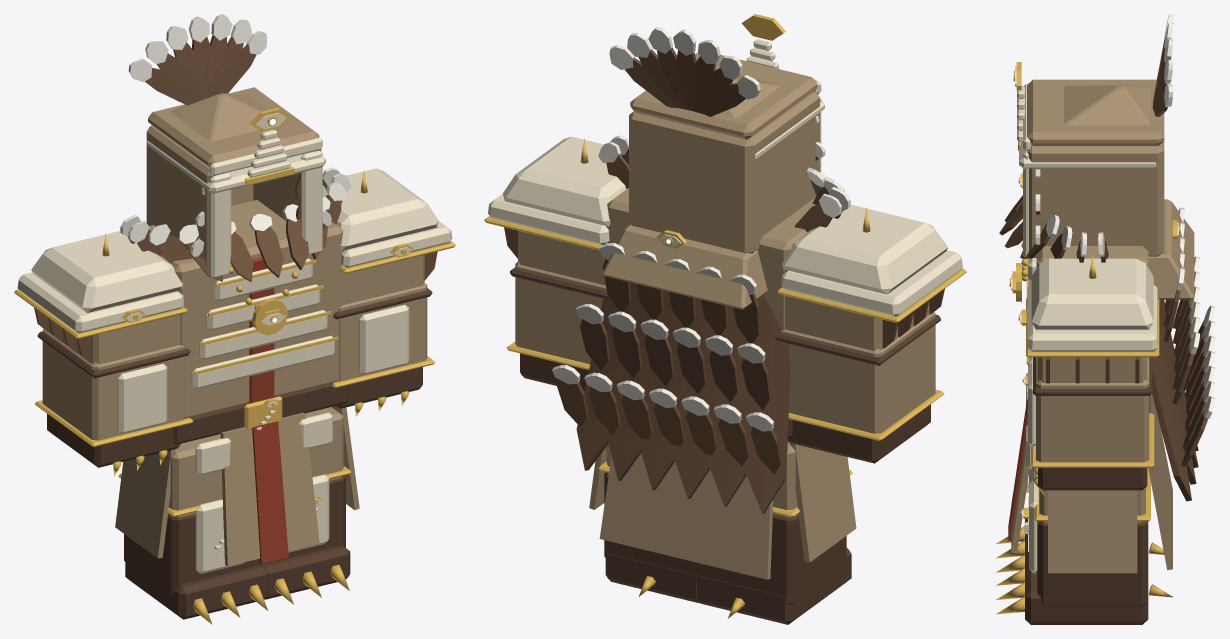
The model's file is Ascendant.fbx.
3 renders of one model, left to right at view 1: azimuth 30°, elevation 25°; view 2: azimuth 150°, elevation 25°; view 3: azimuth 270°, elevation 25°, orthographic. The views are drawn at different scales.
Visible parts, largest first — view 1: Armor_Ascendant_Helm_Wool_Common, Armor_Ascendant_Belt_WoolSway_Common, Armor_Ascendant_Chest_Wool_Common, Armor_Ascendant_PauldronR_Bone_Common, Armor_Ascendant_Chest_Bone_Common, Armor_Ascendant_Helm_Bone_Common, Armor_Ascendant_PauldronL_Bone_Common, Armor_Ascendant_BracerR_Wool_Common, Armor_Ascendant_Helm_FeatherSway_Legendary, Armor_Ascendant_Belt_SashSway_Common, Armor_Ascendant_GreaveR_Leather_Common, Armor_Ascendant_BootR_Leather_Common (+30 smaller); view 2: Armor_Ascendant_Helm_Wool_Common, Armor_Ascendant_Belt_WoolSway_Common, Armor_Ascendant_Chest_FeatherSway_Common, Armor_Ascendant_PauldronR_Bone_Common, Armor_Ascendant_BracerR_Wool_Common, Armor_Ascendant_PauldronL_Bone_Common, Armor_Ascendant_Chest_FeatherSway_Epic, Armor_Ascendant_Chest_FeatherSway_Rare, Armor_Ascendant_BracerL_Wool_Common, Armor_Ascendant_Helm_FeatherSway_Legendary, Armor_Ascendant_GreaveR_Leather_Common, Armor_Ascendant_BootR_Leather_Common (+23 smaller); view 3: Armor_Ascendant_Helm_Wool_Common, Armor_Ascendant_PauldronL_Bone_Common, Armor_Ascendant_Belt_WoolSway_Common, Armor_Ascendant_BracerL_Wool_Common, Armor_Ascendant_GreaveL_Leather_Common, Armor_Ascendant_Chest_FeatherSway_Common, Armor_Ascendant_BootL_Leather_Common, Armor_Ascendant_PauldronL_Wool_Common, Armor_Ascendant_GloveL_Leather_Common, Armor_Ascendant_Chest_FeatherSway_Epic, Armor_Ascendant_Helm_Bone_Common, Armor_Ascendant_Chest_FeatherSway_Rare (+22 smaller).
Part boxes in pixels (bbox=[...]): Armor_Ascendant_Helm_Wool_Common: bbox=[146, 87, 321, 268]; Armor_Ascendant_Belt_WoolSway_Common: bbox=[115, 406, 359, 566]; Armor_Ascendant_Chest_Wool_Common: bbox=[149, 200, 343, 417]; Armor_Ascendant_PauldronR_Bone_Common: bbox=[17, 231, 184, 333]; Armor_Ascendant_Chest_Bone_Common: bbox=[191, 258, 334, 389]; Armor_Ascendant_Helm_Bone_Common: bbox=[146, 137, 325, 278]; Armor_Ascendant_PauldronL_Bone_Common: bbox=[336, 168, 452, 267]; Armor_Ascendant_BracerR_Wool_Common: bbox=[42, 329, 184, 440]; Armor_Ascendant_Helm_FeatherSway_Legendary: bbox=[145, 35, 256, 105]; Armor_Ascendant_Belt_SashSway_Common: bbox=[252, 421, 288, 563]; Armor_Ascendant_GreaveR_Leather_Common: bbox=[124, 513, 260, 595]; Armor_Ascendant_BootR_Leather_Common: bbox=[125, 562, 266, 619]; Armor_Ascendant_Helm_Wool_Common: bbox=[603, 52, 819, 309]; Armor_Ascendant_Belt_WoolSway_Common: bbox=[589, 443, 856, 579]; Armor_Ascendant_Chest_FeatherSway_Common: bbox=[576, 282, 789, 513]; Armor_Ascendant_PauldronR_Bone_Common: bbox=[781, 204, 962, 316]; Armor_Ascendant_BracerR_Wool_Common: bbox=[781, 312, 935, 433]; Armor_Ascendant_PauldronL_Bone_Common: bbox=[488, 136, 626, 245]; Armor_Ascendant_Chest_FeatherSway_Epic: bbox=[557, 379, 782, 474]; Armor_Ascendant_Chest_FeatherSway_Rare: bbox=[580, 319, 771, 409]; Armor_Ascendant_BracerL_Wool_Common: bbox=[515, 261, 606, 364]; Armor_Ascendant_Helm_FeatherSway_Legendary: bbox=[625, 47, 745, 116]; Armor_Ascendant_GreaveR_Leather_Common: bbox=[697, 514, 846, 604]; Armor_Ascendant_BootR_Leather_Common: bbox=[697, 548, 851, 624]; Armor_Ascendant_Helm_Wool_Common: bbox=[1027, 79, 1194, 299]; Armor_Ascendant_PauldronL_Bone_Common: bbox=[1027, 258, 1157, 351]; Armor_Ascendant_Belt_WoolSway_Common: bbox=[1011, 394, 1172, 573]; Armor_Ascendant_BracerL_Wool_Common: bbox=[1036, 357, 1149, 462]; Armor_Ascendant_GreaveL_Leather_Common: bbox=[1037, 521, 1147, 605]; Armor_Ascendant_Chest_FeatherSway_Common: bbox=[1152, 299, 1198, 501]; Armor_Ascendant_BootL_Leather_Common: bbox=[1025, 552, 1148, 624]; Armor_Ascendant_PauldronL_Wool_Common: bbox=[1038, 357, 1147, 382]; Armor_Ascendant_GloveL_Leather_Common: bbox=[1038, 468, 1147, 490]; Armor_Ascendant_Chest_FeatherSway_Epic: bbox=[1181, 320, 1207, 466]; Armor_Ascendant_Helm_Bone_Common: bbox=[1017, 84, 1156, 256]; Armor_Ascendant_Chest_FeatherSway_Rare: bbox=[1172, 299, 1194, 404].
Size of the model in its own units: 462 by 622 by 221.
